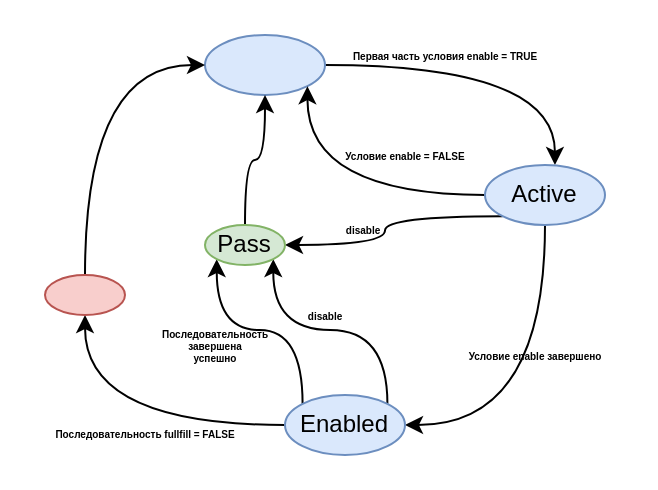
This 658x490 diagram has some shape labels left out. Here are the shapes that lost their labels. From the top down, the box of each, then its label:
(203, 33, 325, 95): Inactive
(43, 273, 125, 315): Fail
